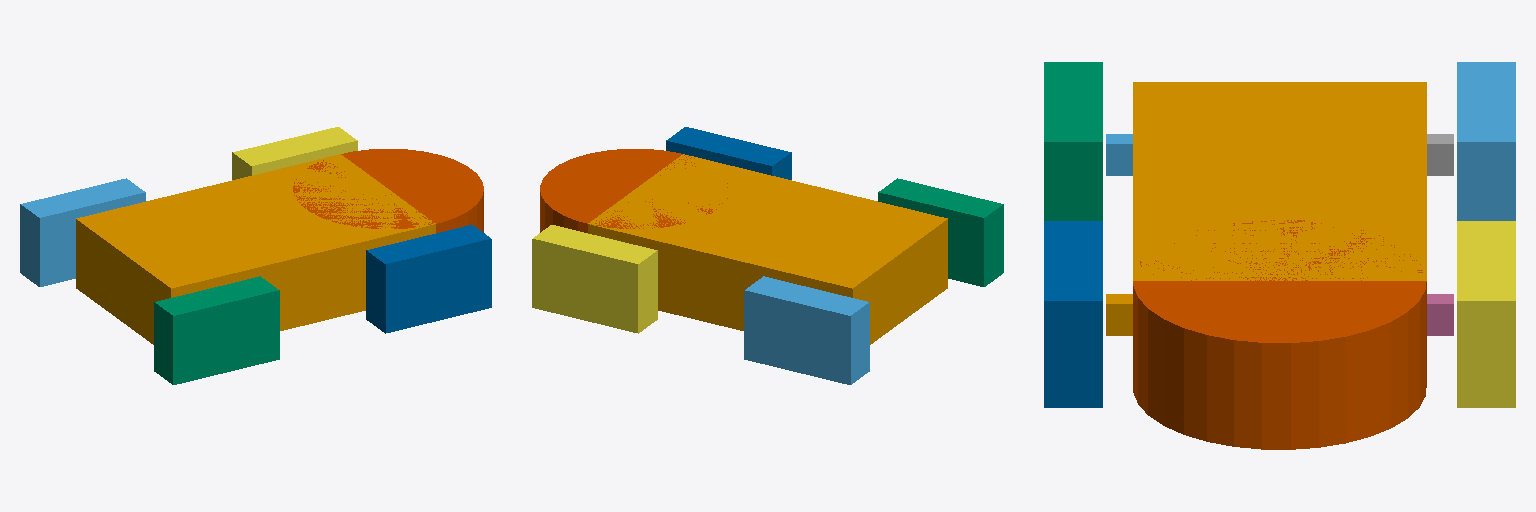
The robot description file, URDF, robot "dubinscar/dubinscar":
<?xml version="1.0"?>
<robot name="dubinscar/dubinscar">
 <link name="chassi">
  <inertial>
    <mass value="1"/>
    <inertia ixx="0.0566666666667" ixy="0" ixz="0" iyy="0.0741666666667" iyz="0" izz="0.0241666666667"/>
  </inertial>
  <visual>
    <origin rpy="0 0 0" xyz="0 0 0"/>
    <geometry>
      <box size="0.8 0.5 0.2"/>
    </geometry>
  </visual>
  <collision>
    <origin rpy="0 0 0" xyz="0 0 0"/>
    <geometry>
      <box size="0.8 0.5 0.2"/>
    </geometry>
  </collision>
 </link>

 <link name="wheel1">
  <inertial>
    <mass value="1"/>
    <inertia ixx="0.0118666666667" ixy="0" ixz="0" iyy="0.00936666666667" iyz="0" izz="0.00416666666667"/>
  </inertial>
  <visual>
    <origin rpy="0 0 0" xyz="-0.32 0.35 0"/>
    <geometry>
      <box size="0.32 0.1 0.2"/>
    </geometry>
  </visual>
  <collision>
    <origin rpy="0 0 0" xyz="-0.32 0.35 0"/>
    <geometry>
      <box size="0.32 0.1 0.2"/>
    </geometry>
  </collision>
 </link>

 <link name="wheel2">
  <inertial>
    <mass value="1"/>
    <inertia ixx="0.0118666666667" ixy="0" ixz="0" iyy="0.00936666666667" iyz="0" izz="0.00416666666667"/>
  </inertial>
  <visual>
    <origin rpy="0 0 0" xyz="-0.32 -0.35 0"/>
    <geometry>
      <box size="0.32 0.1 0.2"/>
    </geometry>
  </visual>
  <collision>
    <origin rpy="0 0 0" xyz="-0.32 -0.35 0"/>
    <geometry>
      <box size="0.32 0.1 0.2"/>
    </geometry>
  </collision>
 </link>

 <link name="wheel3">
  <inertial>
    <mass value="1"/>
    <inertia ixx="0.0118666666667" ixy="0" ixz="0" iyy="0.00936666666667" iyz="0" izz="0.00416666666667"/>
  </inertial>
  <visual>
    <origin rpy="0 0 0" xyz="0.32 0.35 0"/>
    <geometry>
      <box size="0.32 0.1 0.2"/>
    </geometry>
  </visual>
  <collision>
    <origin rpy="0 0 0" xyz="0.32 0.35 0"/>
    <geometry>
      <box size="0.32 0.1 0.2"/>
    </geometry>
  </collision>
 </link>

 <link name="wheel4">
  <inertial>
    <mass value="1"/>
    <inertia ixx="0.0118666666667" ixy="0" ixz="0" iyy="0.00936666666667" iyz="0" izz="0.00416666666667"/>
  </inertial>
  <visual>
    <origin rpy="0 0 0" xyz="0.32 -0.35 0"/>
    <geometry>
      <box size="0.32 0.1 0.2"/>
    </geometry>
  </visual>
  <collision>
    <origin rpy="0 0 0" xyz="0.32 -0.35 0"/>
    <geometry>
      <box size="0.32 0.1 0.2"/>
    </geometry>
  </collision>
 </link>

 <link name="frontspoiler">
  <inertial>
    <mass value="1"/>
    <inertia ixx="0.0189583333333" ixy="0" ixz="0" iyy="0.0189583333333" iyz="0" izz="0.015625"/>
  </inertial>
  <visual>
    <origin rpy="0 0 90" xyz="0.4 0 0"/>
    <geometry>
      <cylinder length="0.2" radius="0.25"/>
    </geometry>
  </visual>
  <collision>
    <origin rpy="0 0 90" xyz="0.4 0 0"/>
    <geometry>
      <cylinder length="0.2" radius="0.25"/>
    </geometry>
  </collision>
 </link>

 <link name="axis1">
  <inertial>
    <mass value="1"/>
    <inertia ixx="0.000433333333333" ixy="0" ixz="0" iyy="0.000341666666667" iyz="0" izz="0.000508333333333"/>
  </inertial>
  <visual>
    <origin rpy="0 0 0" xyz="0.32 0.27 0"/>
    <geometry>
      <box size="0.04 0.05 0.06"/>
    </geometry>
  </visual>
  <collision>
    <origin rpy="0 0 0" xyz="0.32 0.27 0"/>
    <geometry>
      <box size="0.04 0.05 0.06"/>
    </geometry>
  </collision>
 </link>

 <link name="axis2">
  <inertial>
    <mass value="1"/>
    <inertia ixx="0.000433333333333" ixy="0" ixz="0" iyy="0.000341666666667" iyz="0" izz="0.000508333333333"/>
  </inertial>
  <visual>
    <origin rpy="0 0 0" xyz="-0.32 0.27 0"/>
    <geometry>
      <box size="0.04 0.05 0.06"/>
    </geometry>
  </visual>
  <collision>
    <origin rpy="0 0 0" xyz="-0.32 0.27 0"/>
    <geometry>
      <box size="0.04 0.05 0.06"/>
    </geometry>
  </collision>
 </link>

 <link name="axis3">
  <inertial>
    <mass value="1"/>
    <inertia ixx="0.000433333333333" ixy="0" ixz="0" iyy="0.000341666666667" iyz="0" izz="0.000508333333333"/>
  </inertial>
  <visual>
    <origin rpy="0 0 0" xyz="0.32 -0.27 0"/>
    <geometry>
      <box size="0.04 0.05 0.06"/>
    </geometry>
  </visual>
  <collision>
    <origin rpy="0 0 0" xyz="0.32 -0.27 0"/>
    <geometry>
      <box size="0.04 0.05 0.06"/>
    </geometry>
  </collision>
 </link>

 <link name="axis4">
  <inertial>
    <mass value="1"/>
    <inertia ixx="0.000433333333333" ixy="0" ixz="0" iyy="0.000341666666667" iyz="0" izz="0.000508333333333"/>
  </inertial>
  <visual>
    <origin rpy="0 0 0" xyz="-0.32 -0.27 0"/>
    <geometry>
      <box size="0.04 0.05 0.06"/>
    </geometry>
  </visual>
  <collision>
    <origin rpy="0 0 0" xyz="-0.32 -0.27 0"/>
    <geometry>
      <box size="0.04 0.05 0.06"/>
    </geometry>
  </collision>
 </link>

<joint name="joint_chassi_wheel1" type="fixed">
  <origin rpy="0 0 0" xyz="0 0 0"/>
  <parent link="chassi"/>
  <child link="wheel1"/>
</joint>

<joint name="joint_chassi_wheel2" type="fixed">
  <origin rpy="0 0 0" xyz="0 0 0"/>
  <parent link="chassi"/>
  <child link="wheel2"/>
</joint>

<joint name="joint_chassi_wheel3" type="fixed">
  <origin rpy="0 0 0" xyz="0 0 0"/>
  <parent link="chassi"/>
  <child link="wheel3"/>
</joint>

<joint name="joint_chassi_wheel4" type="fixed">
  <origin rpy="0 0 0" xyz="0 0 0"/>
  <parent link="chassi"/>
  <child link="wheel4"/>
</joint>

<joint name="joint_chassi_frontspoiler" type="fixed">
  <origin rpy="0 0 0" xyz="0 0 0"/>
  <parent link="chassi"/>
  <child link="frontspoiler"/>
</joint>

<joint name="joint_chassi_axis1" type="fixed">
  <origin rpy="0 0 0" xyz="0 0 0"/>
  <parent link="chassi"/>
  <child link="axis1"/>
</joint>

<joint name="joint_chassi_axis2" type="fixed">
  <origin rpy="0 0 0" xyz="0 0 0"/>
  <parent link="chassi"/>
  <child link="axis2"/>
</joint>

<joint name="joint_chassi_axis3" type="fixed">
  <origin rpy="0 0 0" xyz="0 0 0"/>
  <parent link="chassi"/>
  <child link="axis3"/>
</joint>

<joint name="joint_chassi_axis4" type="fixed">
  <origin rpy="0 0 0" xyz="0 0 0"/>
  <parent link="chassi"/>
  <child link="axis4"/>
</joint>

  <klampt package_root="../../.." default_acc_max="4" >
  </klampt>
</robot>

--- Render facts (derived) ---
3 views of the same robot in one strip: view 1: azimuth 30°, elevation 25°; view 2: azimuth 150°, elevation 25°; view 3: azimuth 270°, elevation 25° (orthographic).
Model dubinscar/dubinscar with 10 links and 9 joints (9 fixed), rooted at chassi, posed all joints at 0.
Visible links, largest first — view 1: chassi, wheel2, wheel4, frontspoiler, wheel1, wheel3; view 2: chassi, wheel1, wheel3, frontspoiler, wheel2, wheel4; view 3: chassi, frontspoiler, wheel3, wheel4, wheel1, wheel2, axis1, axis2, axis3, axis4.
Boxes of the visible links, x1,y1,x2,y2 form: chassi: (76, 154, 435, 344); wheel2: (154, 276, 279, 384); wheel4: (366, 225, 491, 333); frontspoiler: (293, 149, 483, 232); wheel1: (20, 178, 145, 286); wheel3: (232, 127, 357, 179); chassi: (588, 154, 947, 344); wheel1: (744, 276, 869, 384); wheel3: (532, 225, 657, 333); frontspoiler: (540, 149, 727, 232); wheel2: (878, 178, 1003, 286); wheel4: (666, 127, 791, 179); chassi: (1133, 82, 1426, 280); frontspoiler: (1133, 220, 1426, 449); wheel3: (1457, 221, 1515, 407); wheel4: (1044, 221, 1102, 407); wheel1: (1457, 62, 1515, 220); wheel2: (1044, 62, 1102, 220); axis1: (1427, 294, 1453, 335); axis2: (1427, 134, 1453, 175); axis3: (1106, 294, 1132, 335); axis4: (1106, 134, 1132, 175).
Bounding box of the posed robot: 1.13 × 0.8 × 0.2 m (x, y, z).
Geometry: primitives only (box / cylinder / sphere), no mesh files.